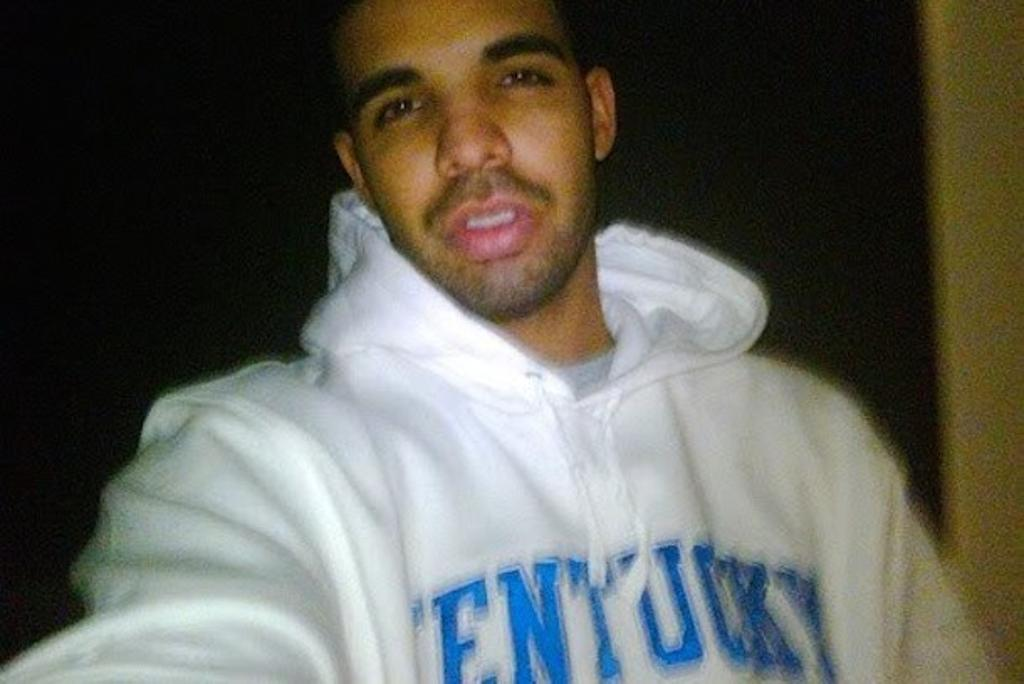face: (346, 16, 594, 316)
